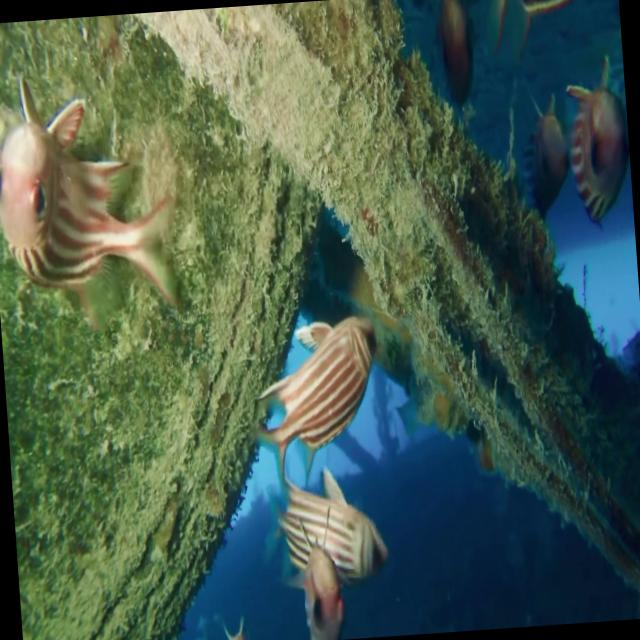Asker Baligi: (0, 61, 182, 324), (242, 309, 387, 494)
